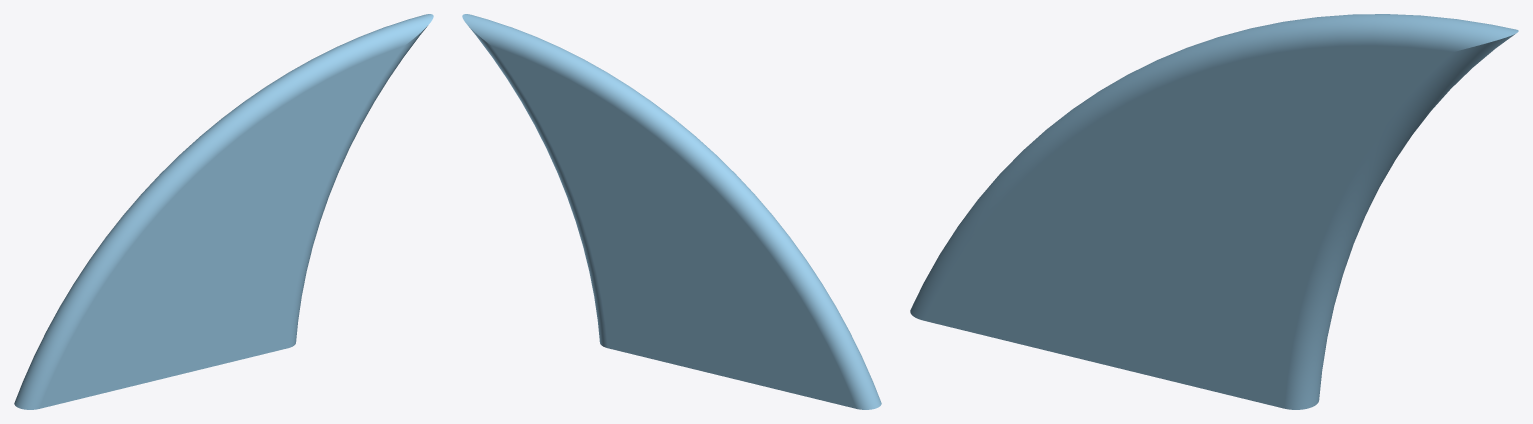
Rendered from aileron.obj.
3 renders of one model, left to right at view 1: azimuth 30°, elevation 25°; view 2: azimuth 150°, elevation 25°; view 3: azimuth 330°, elevation 25°, orthographic. The views are drawn at different scales.
Parts seen in each view (by area): view 1: mesh0, mesh3, mesh2; view 2: mesh4, mesh3, mesh2; view 3: mesh0, mesh3, mesh2.
Part boxes in pixels (x1=…): mesh0: x1=39, y1=46, x2=403, y2=408; mesh3: x1=14, y1=14, x2=433, y2=409; mesh2: x1=288, y1=26, x2=427, y2=348; mesh4: x1=492, y1=46, x2=856, y2=408; mesh3: x1=462, y1=14, x2=881, y2=409; mesh2: x1=468, y1=26, x2=607, y2=348; mesh0: x1=923, y1=45, x2=1452, y2=408; mesh3: x1=910, y1=14, x2=1518, y2=320; mesh2: x1=1284, y1=34, x2=1514, y2=409.
Bounding box in the file's own units: 0.15 × 0.1 × 0.01.
